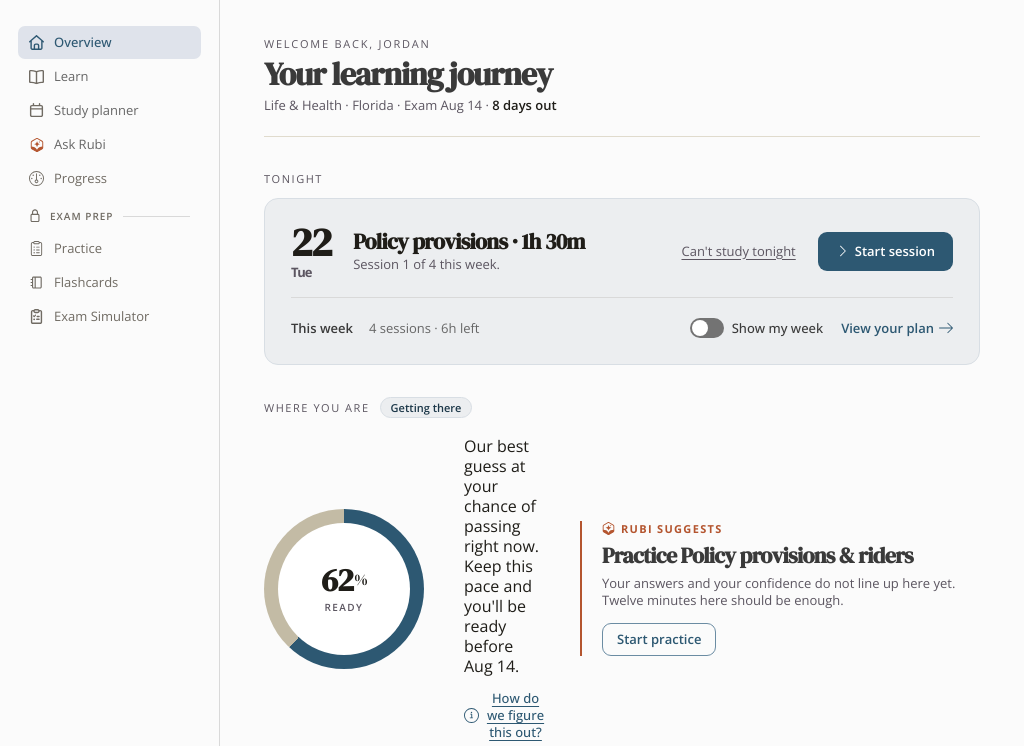
Test: the Overview reads the same plan › Show my week reveals the strip, hidden by default
Step 1. Click the switch labelled "Show my week" → (756,328), box [688,314,825,342]
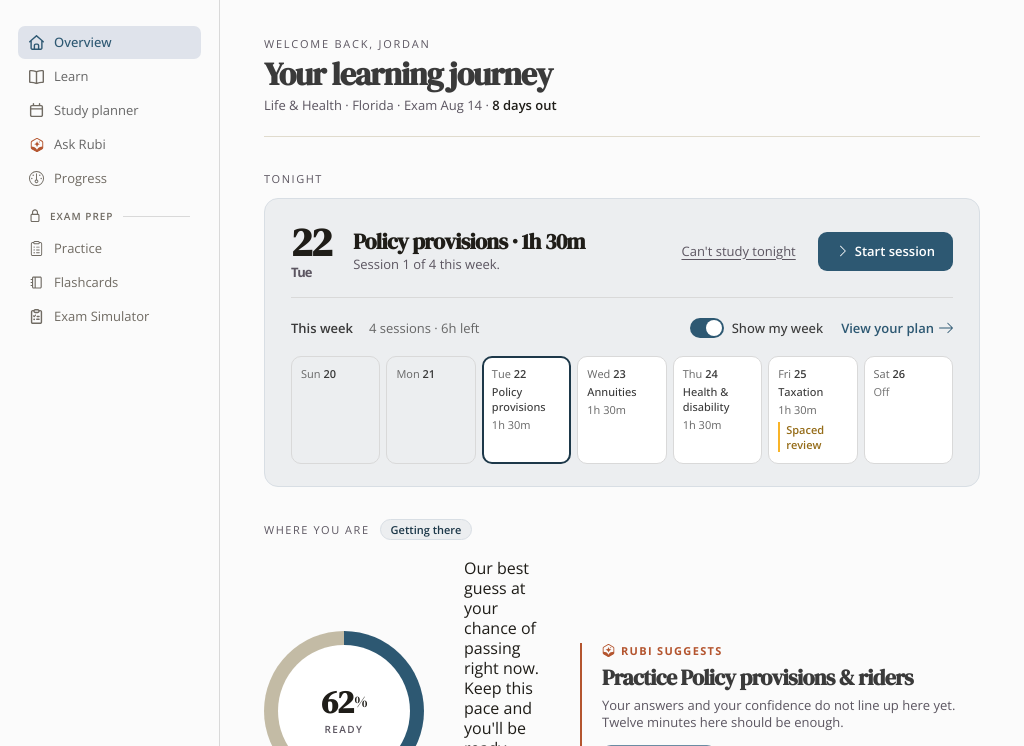
Now the list item "Tue 22 Policy provisions 1h 30m" is shown, box [482,356,571,464]
